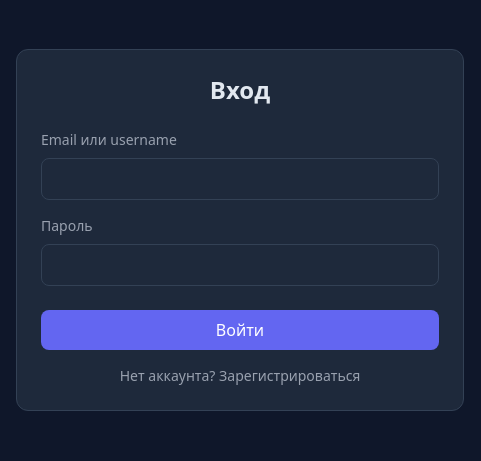
Test case: LoginPage › shows error message on failed login
Type "bad" into the field at (240, 179), box [41,158,439,200]
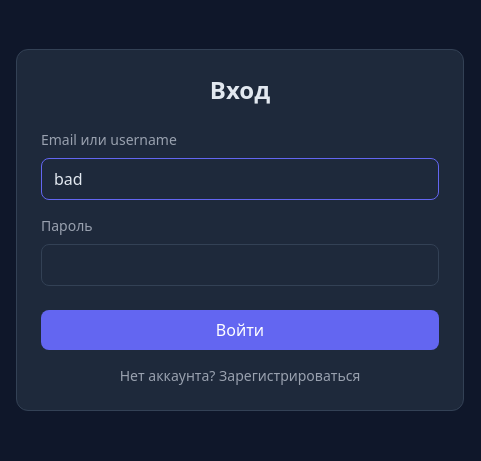
Type "bad" into the password field at (240, 265), box [41,244,439,286]
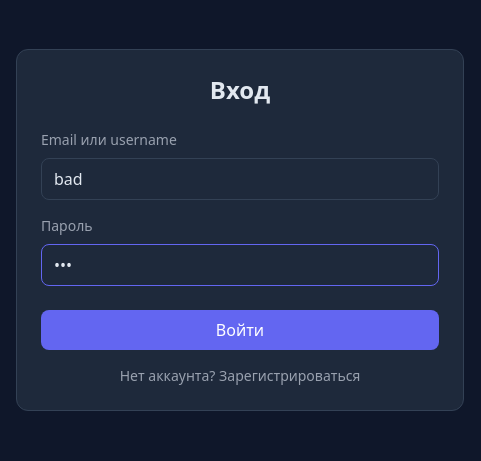
Click the button "Войти" at (240, 330), box [41,310,439,350]
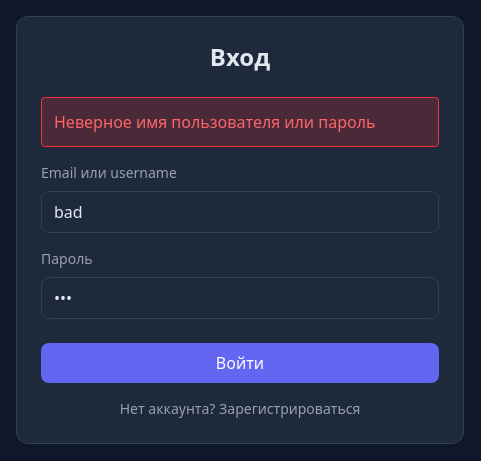
Expected: the text "Неверное имя пользователя или пароль" is shown, [41,97,439,147]
